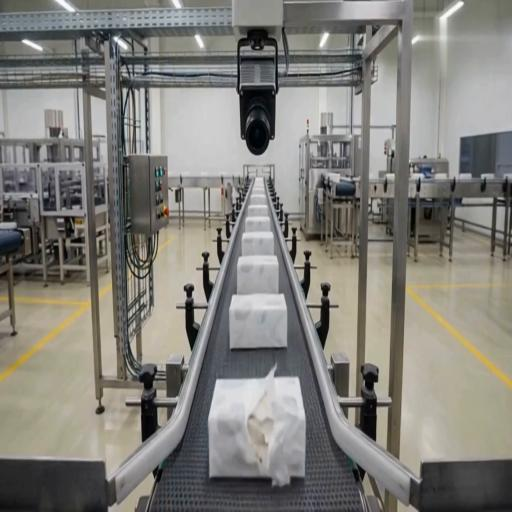defective: (205, 374, 305, 479)
good: (228, 292, 288, 348), (237, 255, 279, 293), (241, 229, 275, 256), (246, 215, 271, 231), (248, 203, 268, 216), (250, 193, 266, 203), (252, 187, 265, 193), (253, 183, 265, 187)
